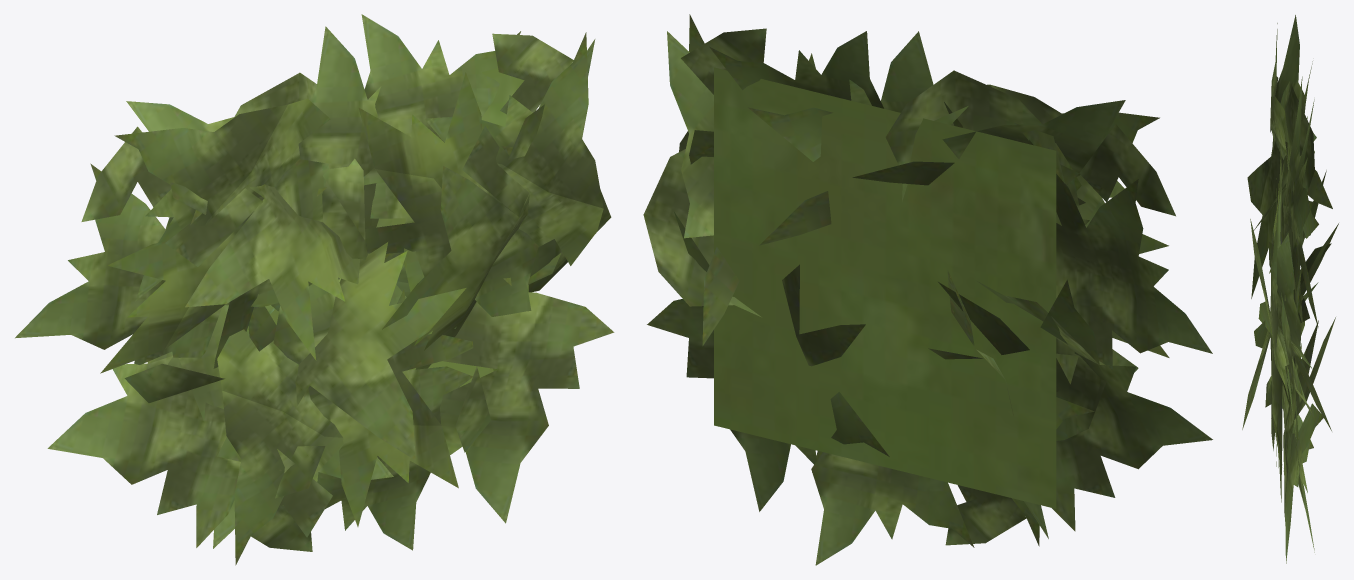
Rendered from empty.glb.
3 views of the same model, side by side, from view 1: azimuth 30°, elevation 25°; view 2: azimuth 150°, elevation 25°; view 3: azimuth 270°, elevation 25° (orthographic). The views are drawn at different scales.
Parts seen in each view (by area): view 1: grass; view 2: grass; view 3: grass.
Part boxes in pixels (x1,y1,x2,y2): grass: (15, 14, 614, 565); grass: (643, 14, 1212, 565); grass: (1242, 15, 1338, 563).
Size of the model in its own units: 3.4 by 3.08 by 0.6166.
1 material, 1 textured.
